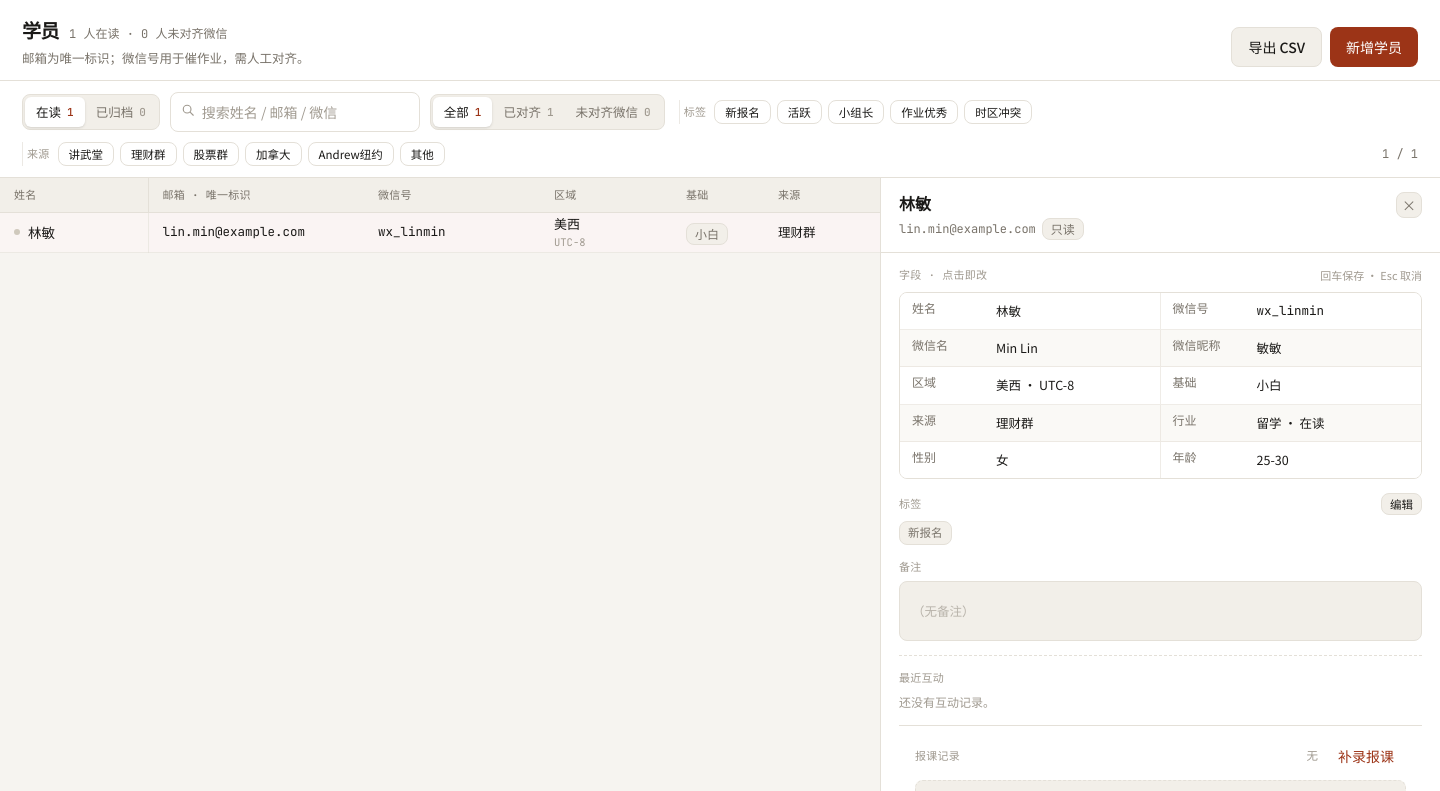
Test: in-progress state is visible, not only announced › shows a spinner while a tag change is in flight
The width and height of the screenshot is (1440, 791).
Click the button "编辑".
click(1402, 504)  # box [1381,493,1422,515]
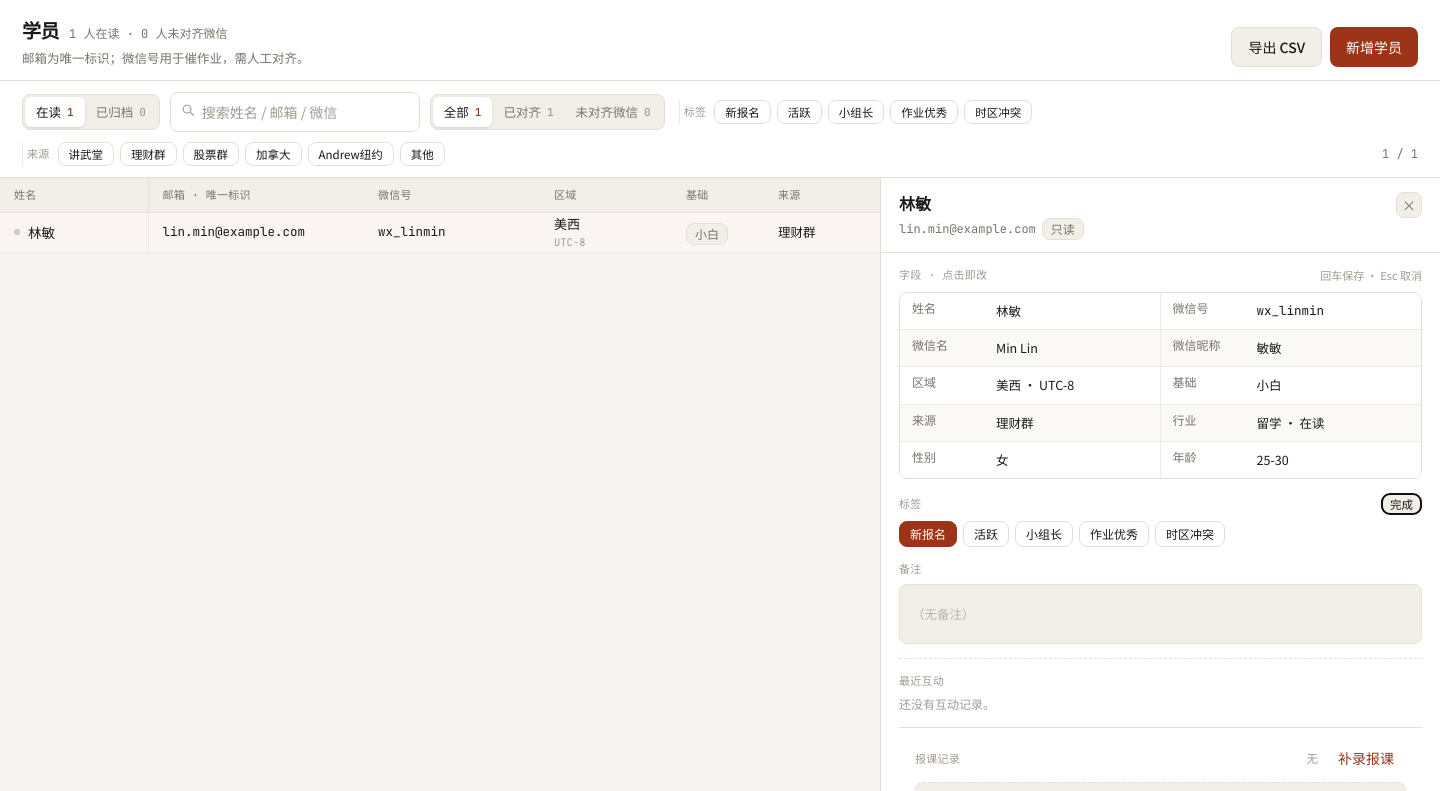
Click the button "活跃" below "性别".
click(986, 534)  # box [963,521,1009,547]
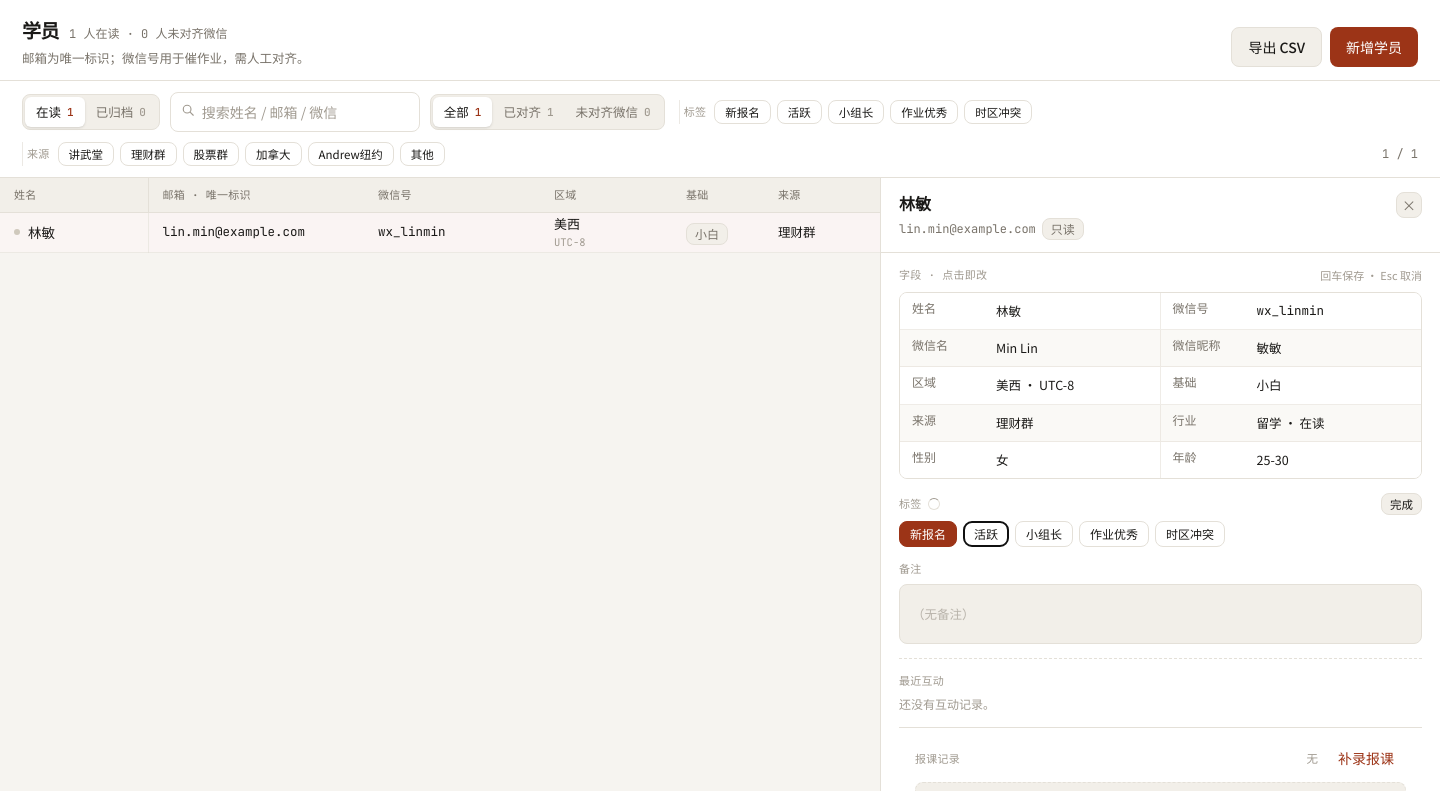
Check: the element with test id "saving-spinner" is shown, box [928,498,940,510]
